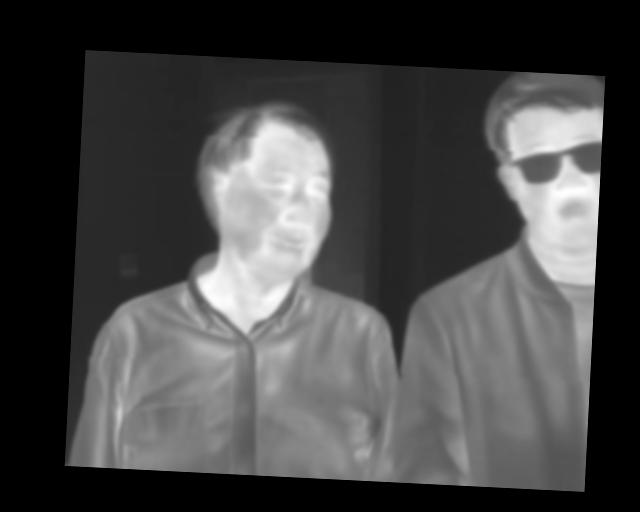face: (193, 95, 337, 278), (480, 71, 604, 255)
